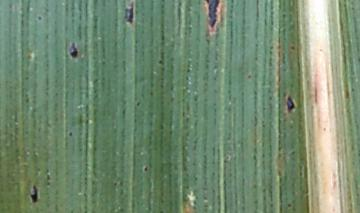tarspot: (203, 1, 221, 29), (123, 1, 135, 24), (67, 42, 80, 59), (285, 94, 296, 113), (29, 184, 39, 204), (297, 164, 304, 178), (45, 173, 51, 181), (168, 85, 176, 91), (67, 130, 73, 137), (157, 59, 163, 66), (36, 15, 42, 22), (112, 181, 119, 187), (148, 90, 154, 97), (45, 181, 51, 188), (290, 149, 296, 156), (289, 44, 295, 50), (246, 74, 252, 80), (286, 202, 292, 208), (222, 158, 228, 164), (24, 97, 30, 103), (44, 167, 50, 173), (143, 165, 148, 172), (135, 101, 141, 106), (23, 75, 29, 80), (350, 86, 355, 92), (322, 126, 327, 132), (318, 47, 323, 53), (160, 35, 165, 41), (186, 68, 191, 73), (281, 13, 286, 18)
